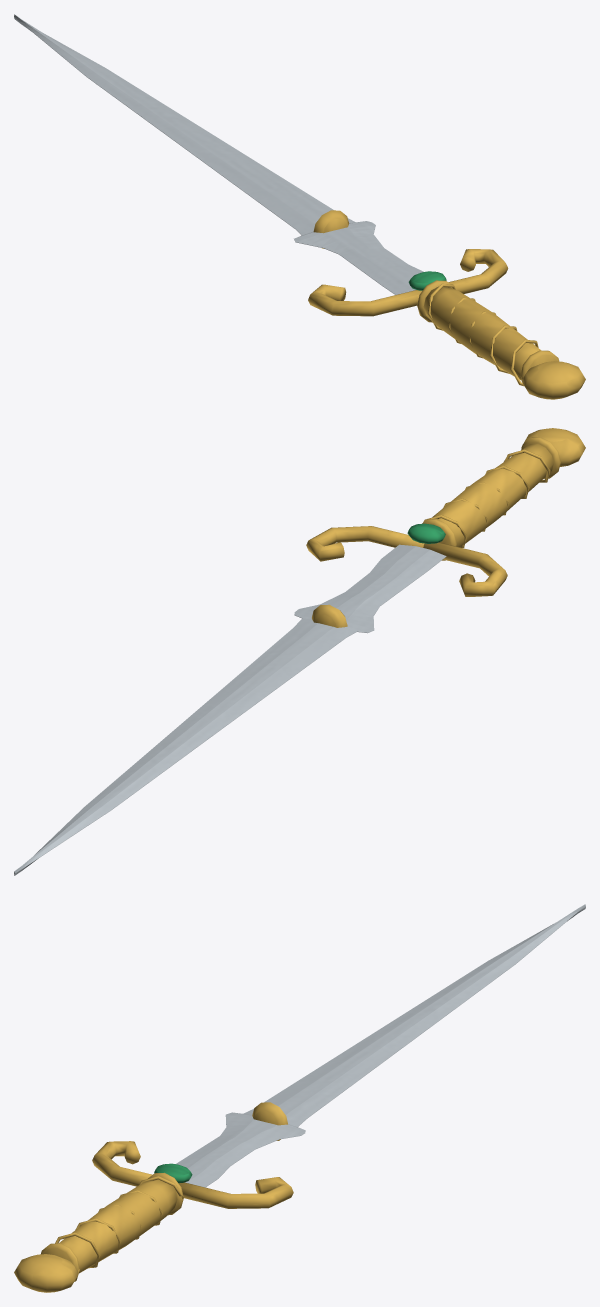
The model's file is item_2hsword3.glb.
The picture shows the model from 3 angles, top to bottom: view 1: azimuth 30°, elevation 25°; view 2: azimuth 150°, elevation 25°; view 3: azimuth 330°, elevation 25°; orthographic projection.
Parts seen in each view (by area): view 1: swords_2hsword3; view 2: swords_2hsword3; view 3: swords_2hsword3.
Part boxes in pixels (x1=…): swords_2hsword3: x1=14, y1=14, x2=585, y2=399; swords_2hsword3: x1=14, y1=428, x2=585, y2=875; swords_2hsword3: x1=14, y1=904, x2=585, y2=1292.
Size of the model in its own units: 0.2691 by 0.0703 by 1.38.
Materials: 1 (1 with a texture image).
